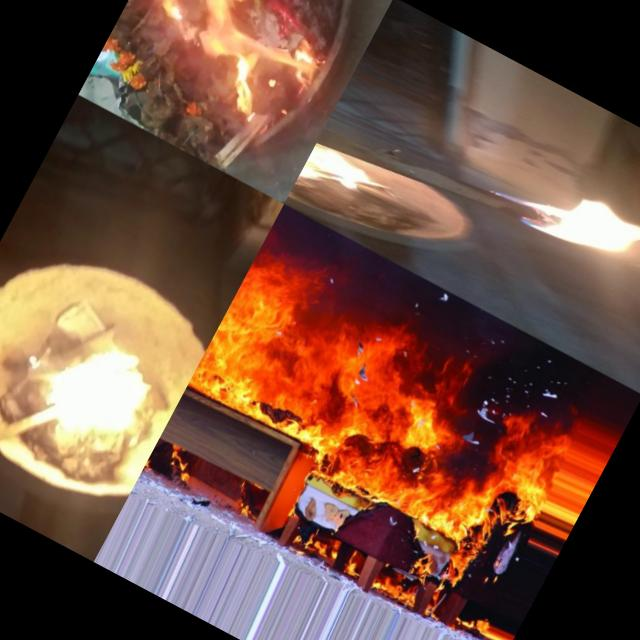fire: (180, 242, 588, 572), (11, 314, 176, 476), (490, 140, 640, 303), (119, 38, 221, 148), (298, 141, 381, 210)
smoke: (94, 0, 226, 82), (160, 0, 290, 68)
